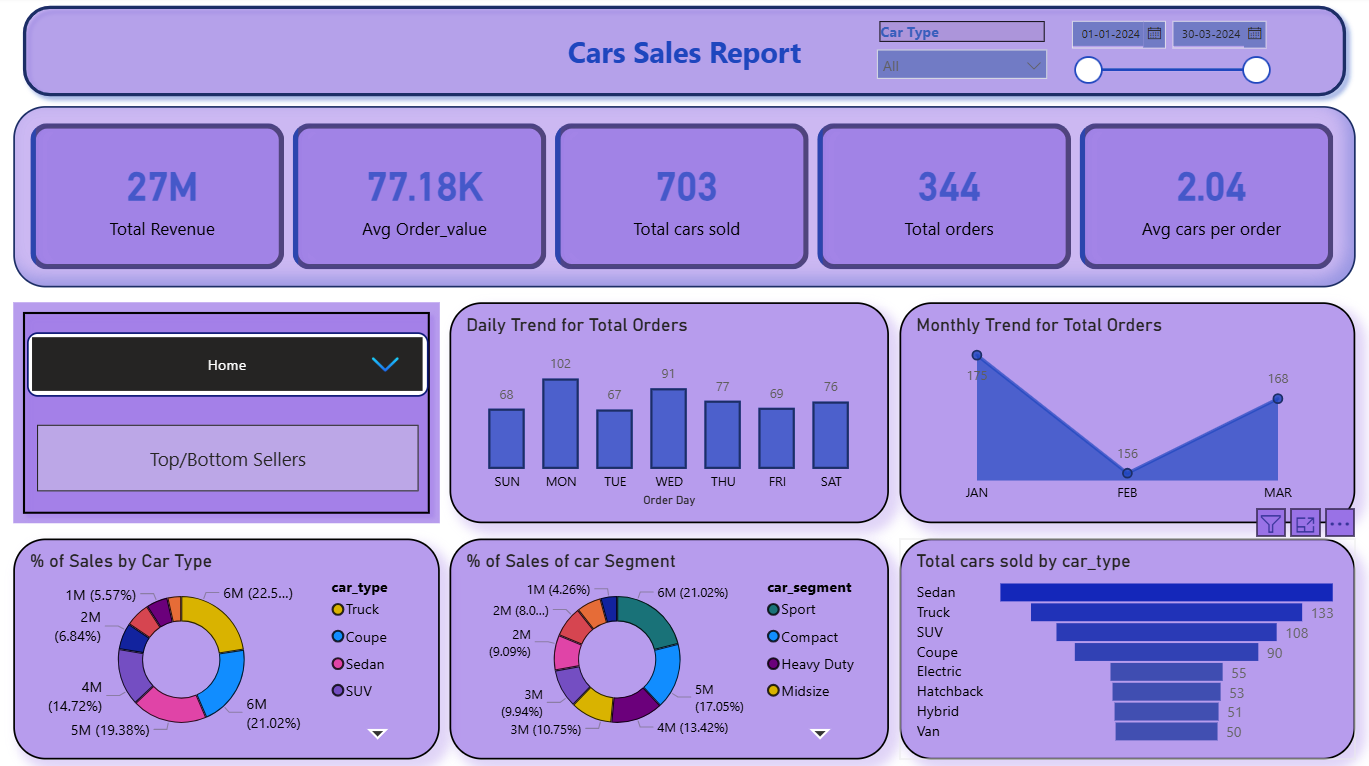

This screenshot's page, from the dashboard's own definition file:
{"tool":"powerbi","page":{"name":"Home","canvas":[1280,720],"ordinal":0},"visuals":[{"type":"cardVisual","fields":{"Data":["car_sales car_sales_data.Total Revenue","car_sales car_sales_data.Avg Order_value","car_sales car_sales_data.Total cars sold","car_sales car_sales_data.Total orders","car_sales car_sales_data.Avg cars per order"]},"box":[15.1,102.3,1248.8,168.6],"z":0},{"type":"shape","box":[15.1,0,1248.8,102.3],"z":1000},{"type":"columnChart","title":"Daily Trend for Total Orders","fields":{"Category":["car_sales car_sales_data.Order Day"],"Y":["car_sales car_sales_data.Total orders"]},"box":[421.3,285.4,408.9,205.8],"z":2000},{"type":"areaChart","title":"Monthly Trend for Total Orders","fields":{"Category":["car_sales car_sales_data.Order Month"],"Y":["car_sales car_sales_data.Total orders"]},"box":[839.8,285.4,424,205.8],"z":3000},{"type":"donutChart","title":"% of Sales by Car Type","fields":{"Category":["car_sales car_sales_data.car_type"],"Y":["car_sales car_sales_data.Total Revenue"]},"box":[15.1,505,396.6,205.8],"z":4000},{"type":"donutChart","title":"% of Sales of car Segment","fields":{"Category":["car_sales car_sales_data.car_segment"],"Y":["car_sales car_sales_data.Total Revenue"]},"box":[421.3,505,408.9,205.8],"z":5000},{"type":"funnel","fields":{"Category":["car_sales car_sales_data.car_type"],"Y":["car_sales car_sales_data.Total cars sold"]},"box":[839.8,505,424,205.8],"z":6000},{"type":"slicer","fields":{"Values":["car_sales car_sales_data.car_type"]},"box":[808.1,18.6,179.1,65.1],"z":7000},{"type":"slicer","fields":{"Values":["car_sales car_sales_data.order_date"]},"box":[987.2,12.8,205.8,77.9],"z":8000},{"type":"shape","box":[15.1,285.4,396.6,205.8],"z":9000},{"type":"pageNavigator","box":[27.4,312.9,373.2,60.4],"z":10000},{"type":"pageNavigator","box":[37.2,398.8,355.8,62.8],"z":11000},{"type":"image","box":[338.9,325.2,45.3,34.3],"z":12000}]}

Visuals, with their boxes in screenshot pixels (x1, y1, x2, y2), scaled from the page's 1280x720 canvas onto the 1369x766 screenshot:
cardVisual - car_sales car_sales_data.Total Revenue x car_sales car_sales_data.Avg Order_value: left=16, top=109, right=1352, bottom=288
shape: left=16, top=0, right=1352, bottom=109
"Daily Trend for Total Orders" columnChart: left=451, top=304, right=888, bottom=523
"Monthly Trend for Total Orders" areaChart: left=898, top=304, right=1352, bottom=523
"% of Sales by Car Type" donutChart: left=16, top=537, right=440, bottom=756
"% of Sales of car Segment" donutChart: left=451, top=537, right=888, bottom=756
funnel - car_sales car_sales_data.car_type x car_sales car_sales_data.Total cars sold: left=898, top=537, right=1352, bottom=756
slicer - car_sales car_sales_data.car_type: left=864, top=20, right=1056, bottom=89
slicer - car_sales car_sales_data.order_date: left=1056, top=14, right=1276, bottom=96
shape: left=16, top=304, right=440, bottom=523
pageNavigator: left=29, top=333, right=428, bottom=397
pageNavigator: left=40, top=424, right=420, bottom=491
image: left=362, top=346, right=411, bottom=382
